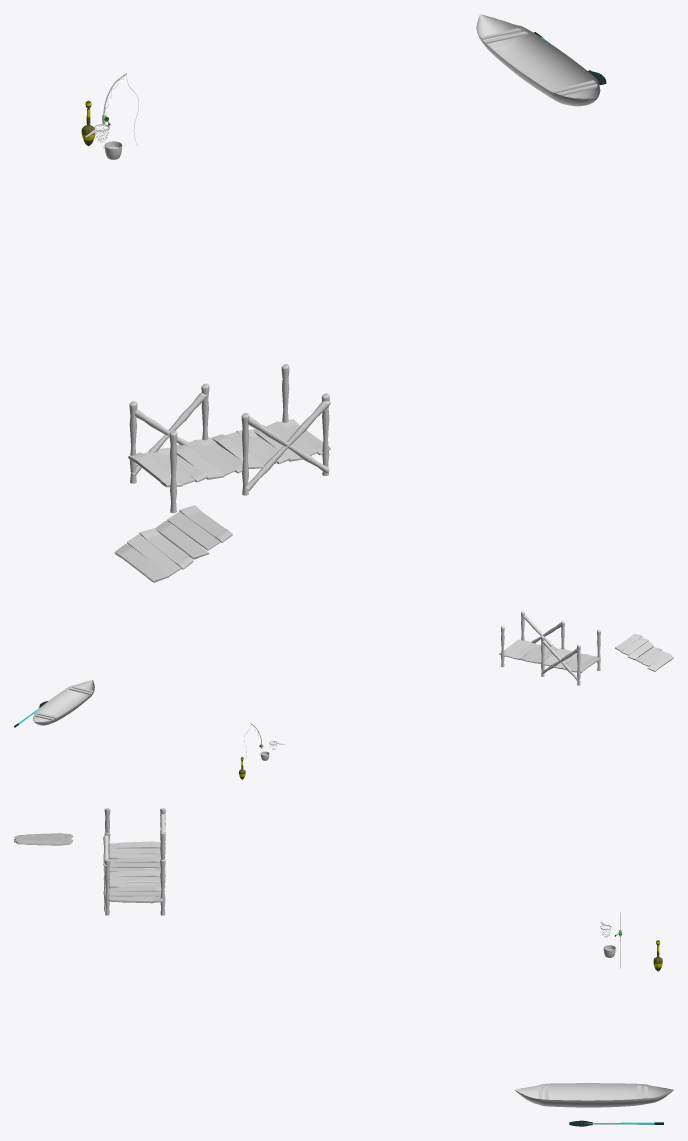
3 views of the same model, one above another, from view 1: azimuth 30°, elevation 25°; view 2: azimuth 150°, elevation 25°; view 3: azimuth 270°, elevation 25° (orthographic). The views are drawn at different scales.
Parts seen in each view (by area): view 1: canoe_ID, board11_ID, board8_ID, board10_ID; view 2: canoe_ID; view 3: canoe_ID.
Part boxes in pixels (x1,y1,x2,y2): canoe_ID: (476,14,600,106); board11_ID: (114,543,169,582); board8_ID: (155,520,209,559); board10_ID: (127,534,180,576); canoe_ID: (33,680,94,725); canoe_ID: (515,1083,673,1107).
Bounding box in the file's own units: 15.57 × 1.62 × 15.03.
